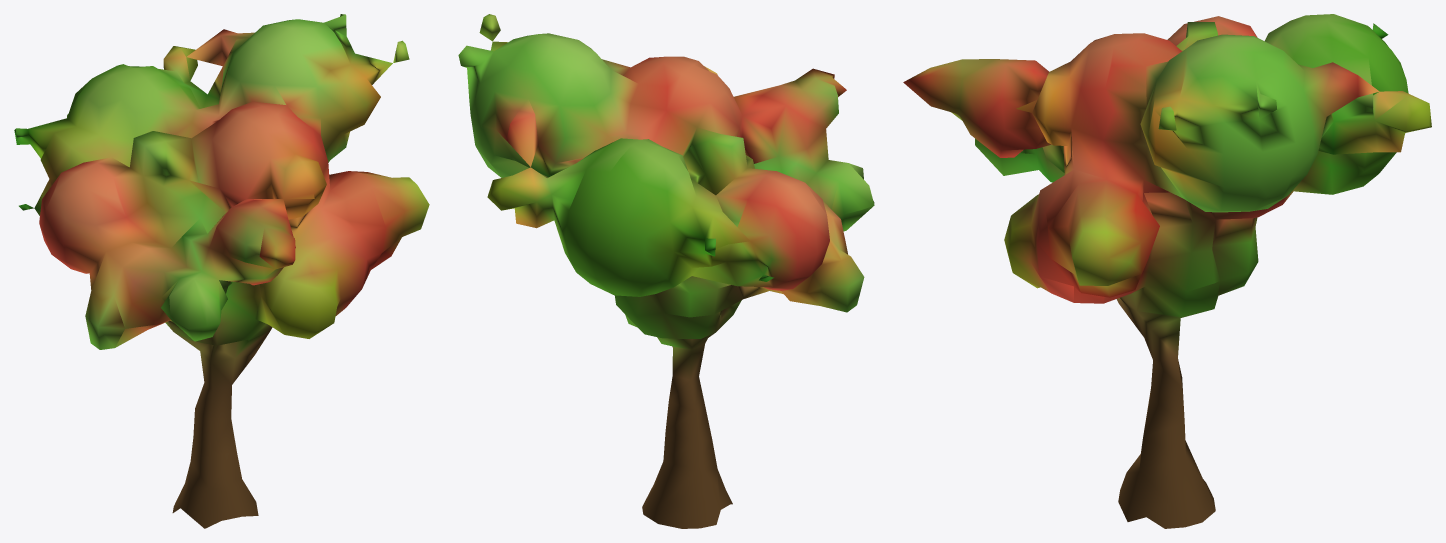
Rendered from canopy-tree-109-lod2.obj.
3 views of the same model, side by side, from view 1: azimuth 30°, elevation 25°; view 2: azimuth 150°, elevation 25°; view 3: azimuth 270°, elevation 25° (orthographic). The views are drawn at different scales.
Visible parts, largest first — view 1: simplified; view 2: simplified; view 3: simplified.
Part boxes in pixels (box(x1,y1,x2,y2)): simplified: box(14, 14, 429, 528); simplified: box(458, 14, 874, 528); simplified: box(903, 14, 1431, 528).
Size of the model in its own units: 319 by 394 by 357.
